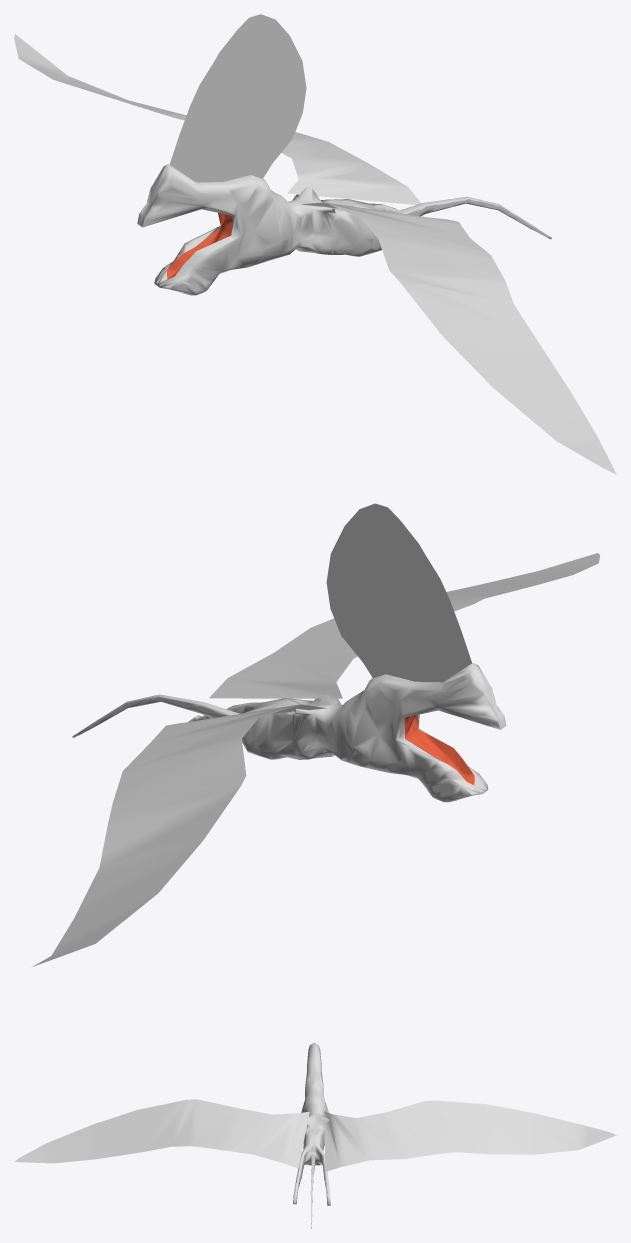
Rendered from tupandactylus-far.glb.
3 views of the same model, one above another, from view 1: azimuth 30°, elevation 25°; view 2: azimuth 150°, elevation 25°; view 3: azimuth 270°, elevation 25° (orthographic). The views are drawn at different scales.
Visible parts, largest first — view 1: Animal; view 2: Animal; view 3: Animal.
Part boxes in pixels (left/top/right/bottom): Animal: left=14, top=14, right=616, bottom=474; Animal: left=32, top=503, right=599, bottom=966; Animal: left=14, top=1042, right=616, bottom=1228.
Bounding box in the file's own units: 1.33 × 0.9114 × 3.2.
